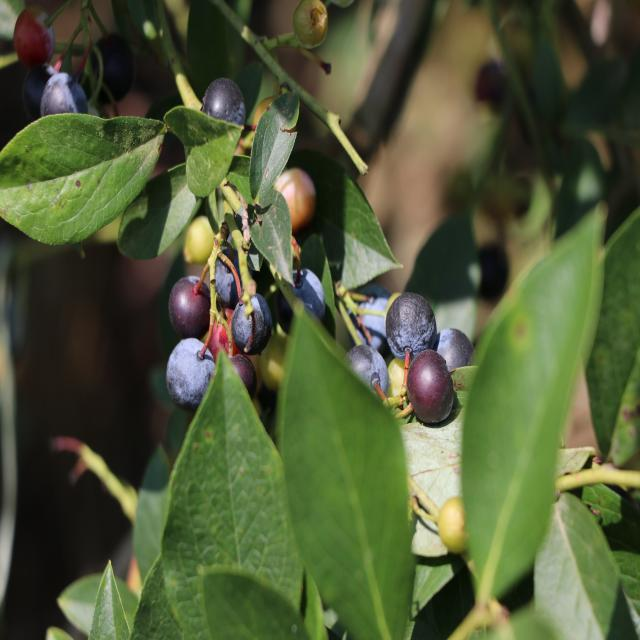blueberry: (405, 349, 456, 433), (162, 339, 222, 405), (385, 289, 434, 360), (168, 271, 215, 344), (280, 268, 326, 338), (343, 344, 395, 400), (44, 72, 89, 132), (210, 250, 253, 312), (232, 291, 274, 353), (200, 74, 244, 127), (436, 326, 473, 374)
blueberry-halfripe: (11, 7, 58, 75), (274, 164, 316, 230), (211, 310, 244, 360)
blueberry-unripe: (292, 0, 334, 53), (438, 496, 474, 556), (180, 207, 218, 259)
